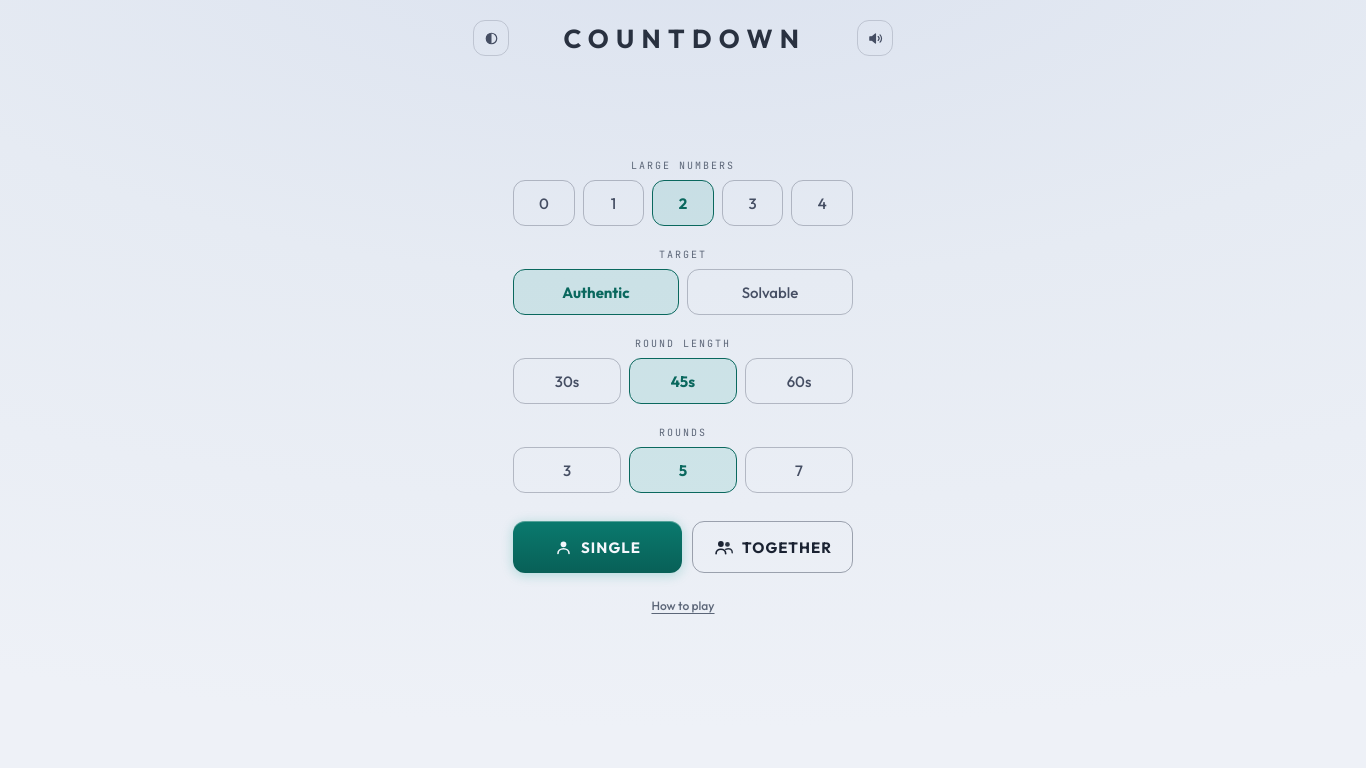
Test: shell can enter multiplayer › Together opens the multiplayer landing when configured (no socket yet)
Click the button "Together" at (773, 547), box [692,521,853,573]
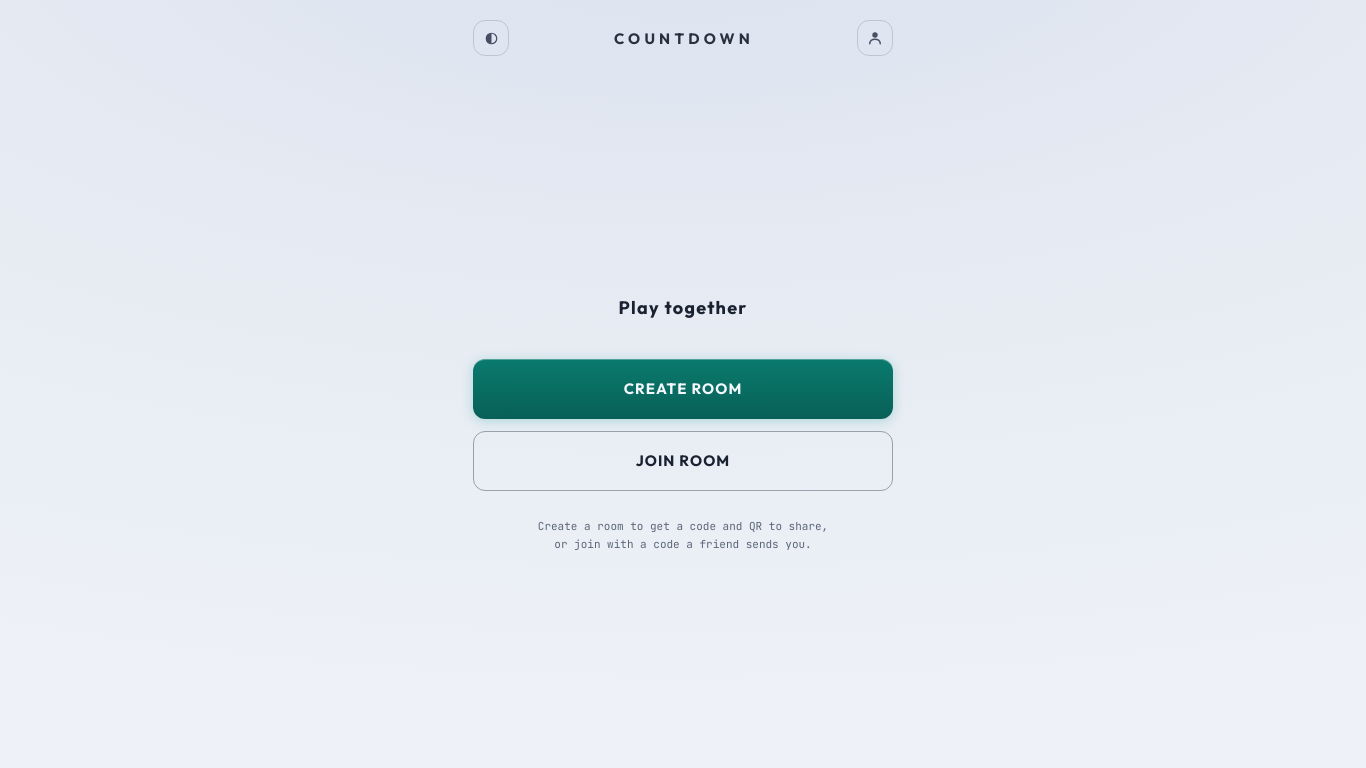
Now the button "Create room" is shown, box [473,359,893,419]
Now the button "Join room" is shown, box [473,431,893,491]
